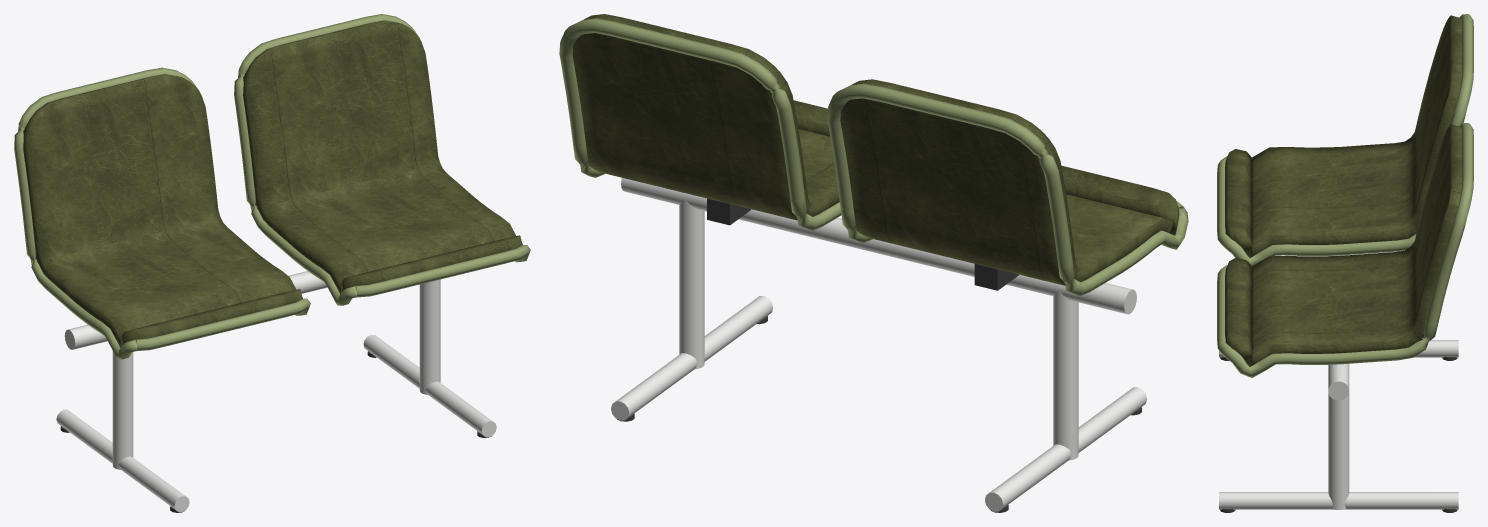
Rendered from waiting_chairs.glb.
3 renders of one model, left to right at view 1: azimuth 30°, elevation 25°; view 2: azimuth 150°, elevation 25°; view 3: azimuth 270°, elevation 25°, orthographic. The views are drawn at different scales.
Visible parts, largest first — view 1: waiting_chairs; view 2: waiting_chairs; view 3: waiting_chairs.
Boxes of the visible parts, x1,y1,x2,y2 form: waiting_chairs: (14,14,530,512); waiting_chairs: (559,14,1188,512); waiting_chairs: (1217,14,1473,512).
Bounding box in the file's own units: 1.09 × 0.8321 × 0.578.
4 materials, 1 textured.
